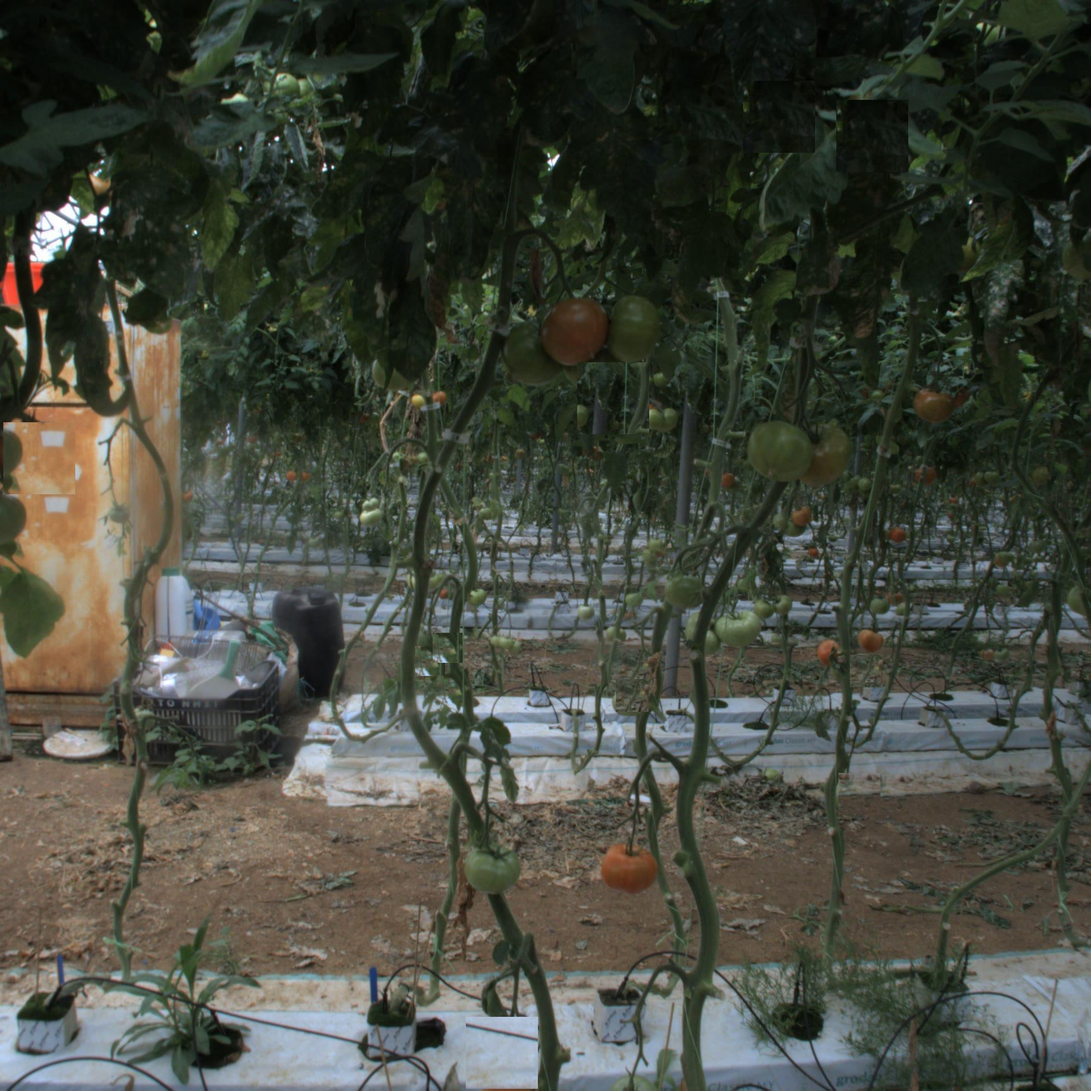fully-ripe: (542, 299, 608, 364), (603, 838, 660, 895)
semi-ripe: (915, 384, 954, 423)
unripe: (786, 420, 851, 485), (505, 320, 570, 385), (597, 296, 662, 361), (748, 418, 813, 483), (463, 838, 520, 895), (665, 571, 704, 610), (719, 607, 758, 646)
